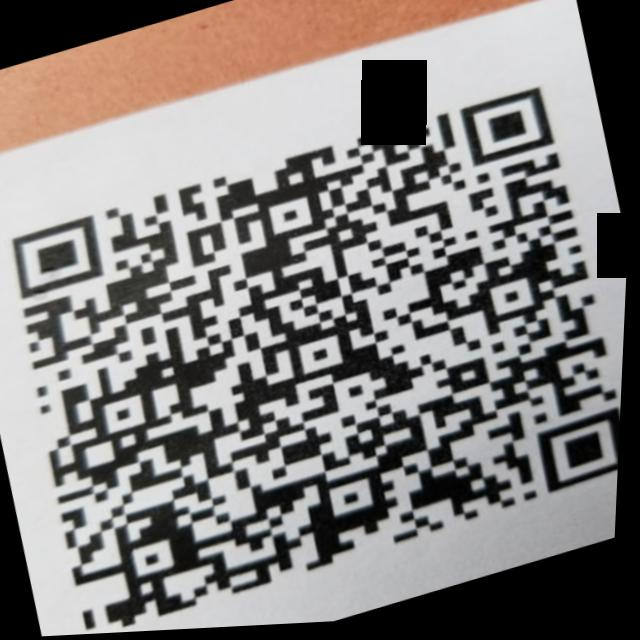QR_CODE: (0, 55, 637, 640)
